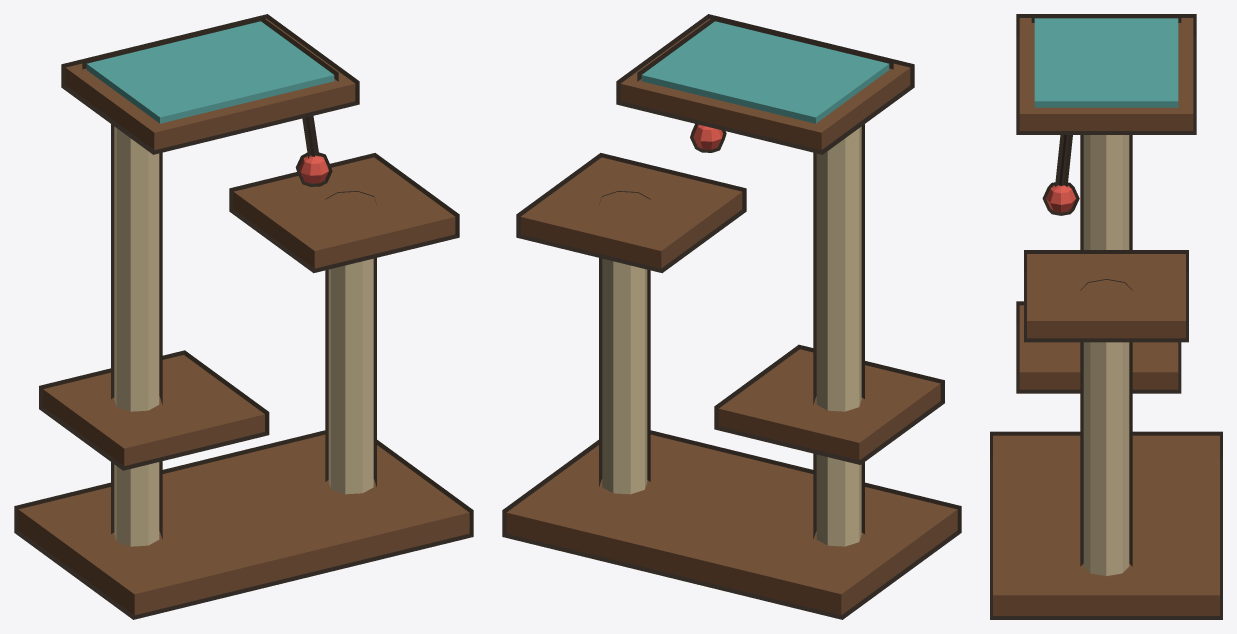
File: cat_tower_02.glb
3 renders of one model, left to right at view 1: azimuth 30°, elevation 25°; view 2: azimuth 150°, elevation 25°; view 3: azimuth 270°, elevation 25°, orthographic. The views are drawn at different scales.
Parts seen in each view (by area): view 1: OBJ_cat_tower_02; view 2: OBJ_cat_tower_02; view 3: OBJ_cat_tower_02.
Part boxes in pixels (box(x1,y1,x2,y2)): OBJ_cat_tower_02: box(14, 14, 473, 619); OBJ_cat_tower_02: box(502, 14, 961, 619); OBJ_cat_tower_02: box(990, 14, 1222, 619).
Bounding box in the file's own units: 1.03 × 1.36 × 0.616.
